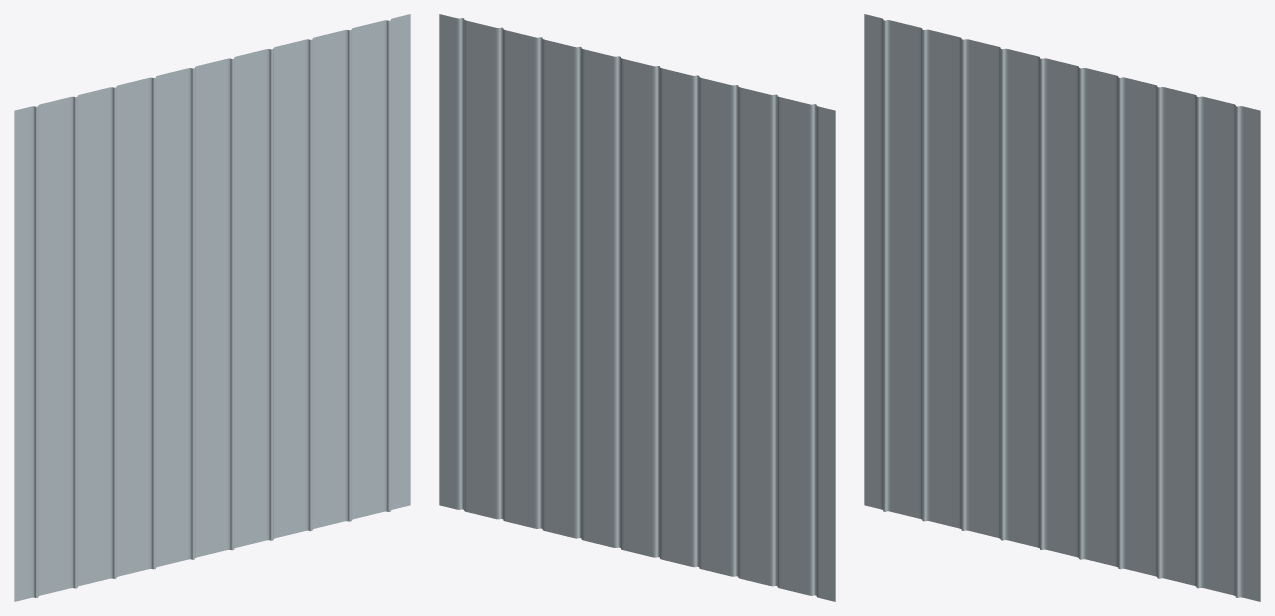
The model's file is factory_door.glb.
3 renders of one model, left to right at view 1: azimuth 30°, elevation 25°; view 2: azimuth 150°, elevation 25°; view 3: azimuth 330°, elevation 25°, orthographic.
Parts seen in each view (by area): view 1: BézierCurve; view 2: BézierCurve; view 3: BézierCurve.
Part boxes in pixels (x1,y1,x2,y2): BézierCurve: [14, 14, 410, 601]; BézierCurve: [439, 14, 835, 601]; BézierCurve: [864, 14, 1260, 601].
Bounding box in the file's own units: 0.4807 × 0.5698 × 0.00339.
